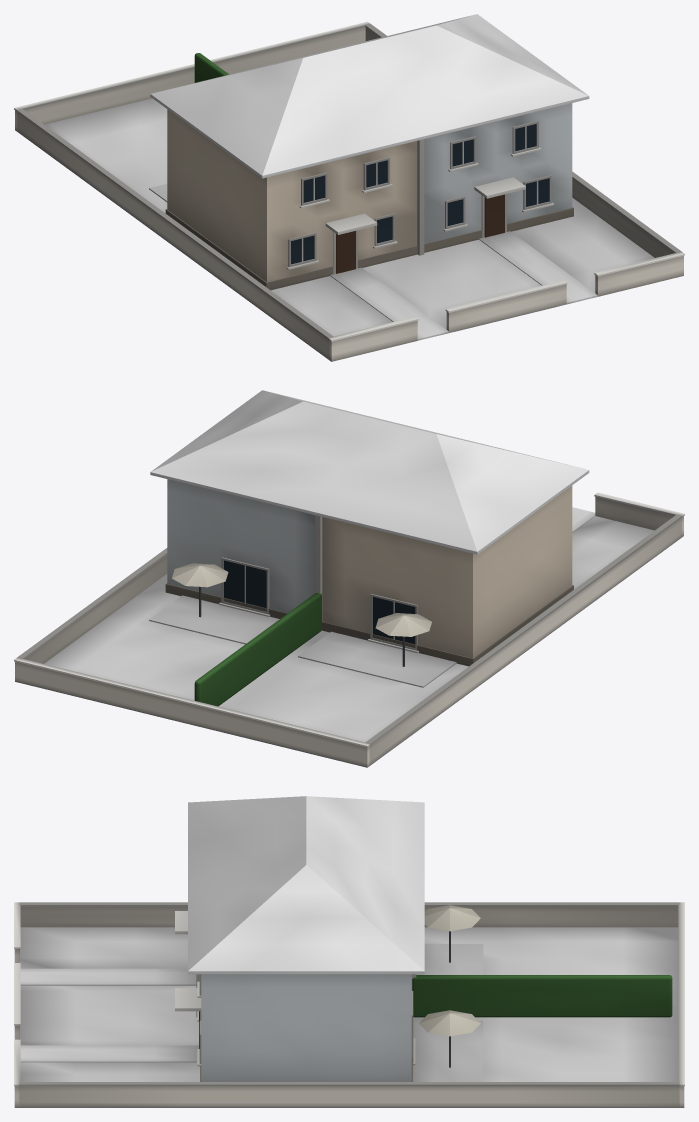
Rendered from duplex-BL_gRuel.glb.
3 renders of one model, top to bottom at view 1: azimuth 30°, elevation 25°; view 2: azimuth 150°, elevation 25°; view 3: azimuth 270°, elevation 25°, orthographic. The views are drawn at different scales.
Visible parts, largest first — view 1: techo, pasto, pieza.014, pieza.015, pieza.008, pieza.006, pieza.016, pieza.012, pieza.013, pieza.002, pieza.009, pieza.010 (+13 smaller); view 2: techo, pasto, pieza.014, pieza.015, pieza.006, pieza.008, pieza.024, pieza.019, pieza.022, pieza.010, pieza.016, pieza.009 (+8 smaller); view 3: pasto, techo, pieza.015, pieza.010, pieza.024, pieza.008, pieza.022, pieza.011, pieza.013, pieza.012, pieza.009, pieza.019 (+4 smaller).
Part boxes in pixels (left/top/right/bottom): techo: left=150, top=14, right=589, bottom=178; pasto: left=15, top=98, right=654, bottom=361; pieza.014: left=167, top=109, right=417, bottom=282; pieza.015: left=424, top=103, right=572, bottom=243; pieza.008: left=17, top=112, right=328, bottom=358; pieza.006: left=15, top=27, right=365, bottom=130; pieza.016: left=165, top=207, right=573, bottom=290; pieza.012: left=330, top=267, right=448, bottom=339; pieza.013: left=479, top=231, right=597, bottom=303; pieza.002: left=446, top=284, right=566, bottom=332; pieza.009: left=17, top=108, right=333, bottom=338; pieza.010: left=365, top=27, right=673, bottom=257; techo: left=150, top=390, right=589, bottom=554; pasto: left=15, top=516, right=683, bottom=767; pieza.014: left=322, top=485, right=572, bottom=658; pieza.015: left=167, top=479, right=315, bottom=613; pieza.006: left=15, top=661, right=369, bottom=766; pieza.008: left=370, top=518, right=681, bottom=764; pieza.024: left=194, top=593, right=321, bottom=706; pieza.019: left=298, top=631, right=456, bottom=687; pieza.022: left=149, top=595, right=279, bottom=644; pieza.010: left=24, top=555, right=167, bottom=663; pieza.016: left=165, top=583, right=573, bottom=666; pieza.009: left=365, top=514, right=681, bottom=744; pasto: left=14, top=927, right=684, bottom=1107; techo: left=188, top=796, right=424, bottom=974; pieza.015: left=201, top=974, right=411, bottom=1081; pieza.010: left=20, top=1086, right=678, bottom=1106; pieza.024: left=412, top=975, right=672, bottom=1017; pieza.008: left=20, top=906, right=678, bottom=927; pieza.022: left=413, top=1020, right=483, bottom=1081; pieza.011: left=19, top=1082, right=679, bottom=1086; pieza.013: left=20, top=1045, right=198, bottom=1062; pieza.012: left=20, top=968, right=196, bottom=985; pieza.009: left=19, top=902, right=679, bottom=906; pieza.019: left=416, top=944, right=483, bottom=974.
Bounding box in the file's own units: 18.06 × 8.6 × 28.06.
